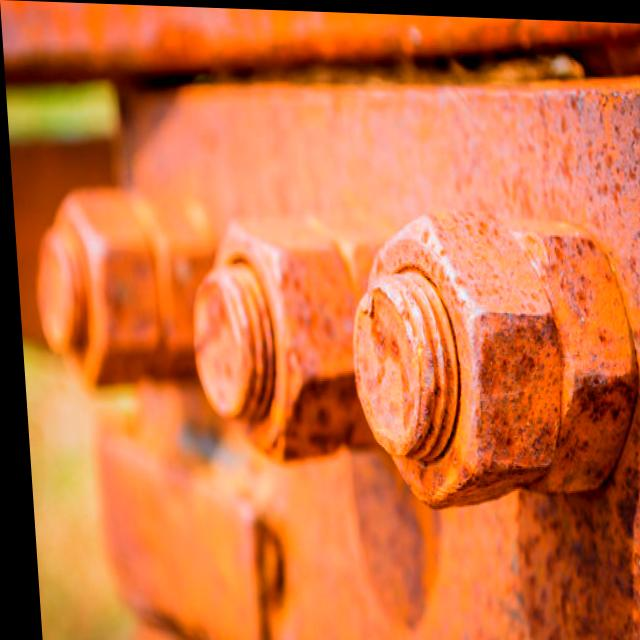Rusty bolt: (343, 205, 561, 511), (184, 215, 359, 457), (516, 218, 638, 491), (27, 181, 156, 395), (138, 189, 207, 401)
